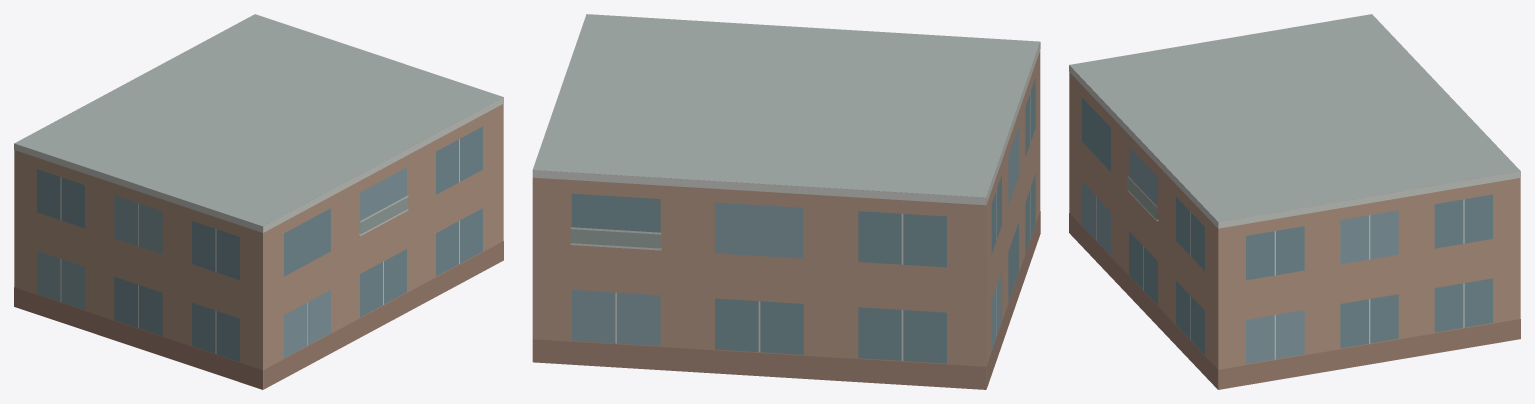
File: survey-upis-32927296.glb
3 renders of one model, left to right at view 1: azimuth 30°, elevation 25°; view 2: azimuth 150°, elevation 25°; view 3: azimuth 270°, elevation 25°, orthographic. The views are drawn at different scales.
Parts seen in each view (by area): view 1: survey-upis-32927296.tmp; view 2: survey-upis-32927296.tmp; view 3: survey-upis-32927296.tmp.
Part boxes in pixels (<box>): survey-upis-32927296.tmp: <box>14,14,503,389</box>; survey-upis-32927296.tmp: <box>532,14,1040,389</box>; survey-upis-32927296.tmp: <box>1069,14,1520,389</box>.
Bounding box in the file's own units: 16.21 × 6.1 × 14.88.
